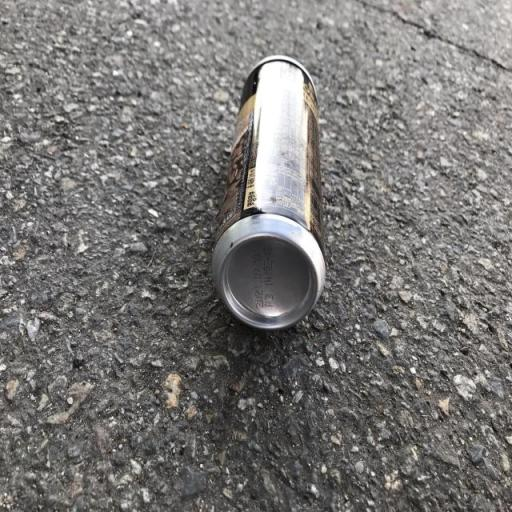metal: (206, 2, 348, 380)
